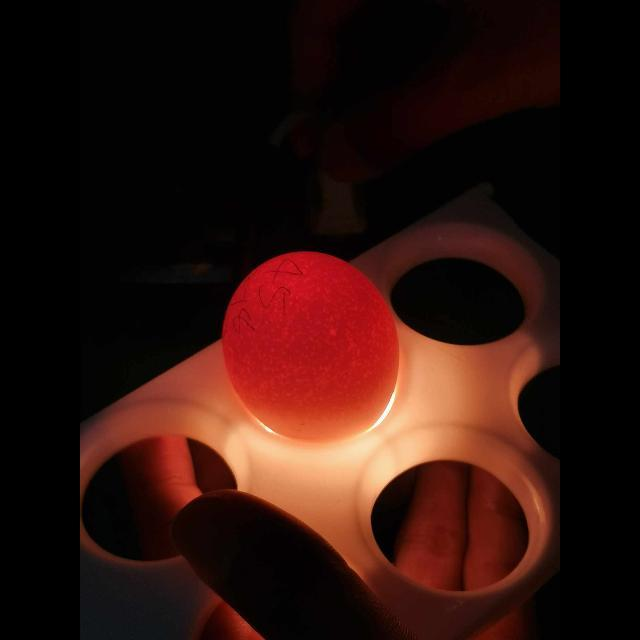Infertile: (222, 250, 404, 440)
